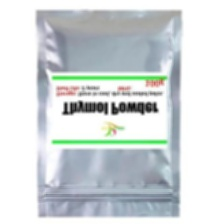insecticide: (31, 4, 184, 221)
